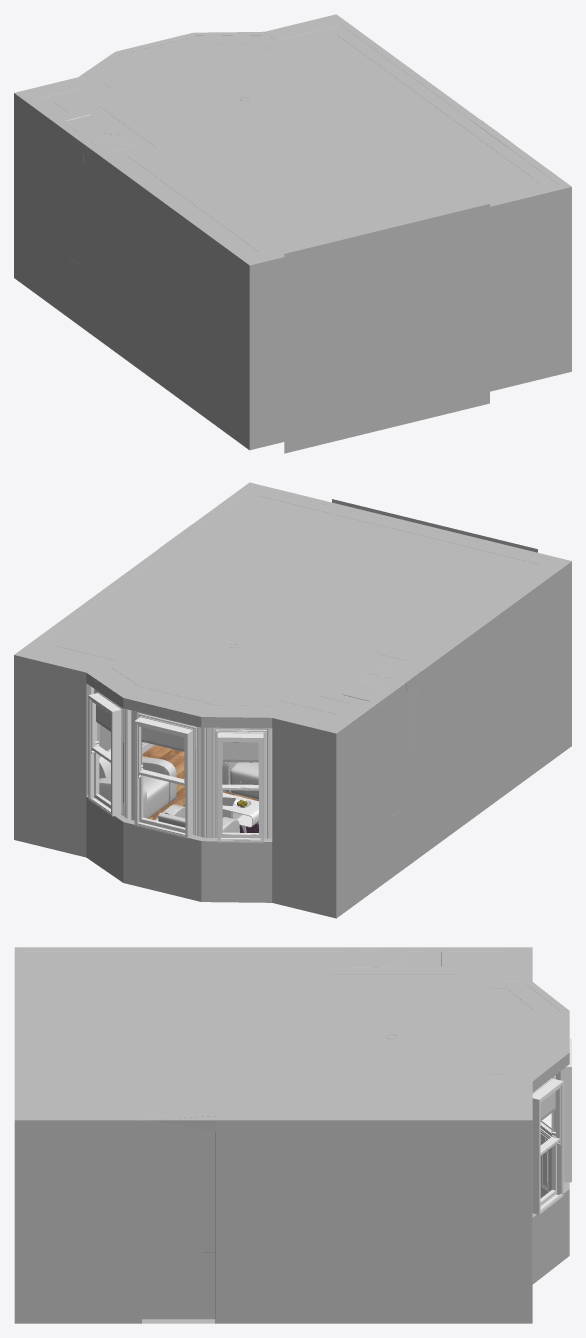
The model's file is residence.glb.
3 renders of one model, top to bottom at view 1: azimuth 30°, elevation 25°; view 2: azimuth 150°, elevation 25°; view 3: azimuth 270°, elevation 25°, orthographic. The views are drawn at different scales.
Parts seen in each view (by area): view 1: 125_Walls, 121_Walls, 01_Walls; view 2: 125_Walls, 121_Walls, 129_WhitePaint, 131_WhitePaint, 126_WhitePaint, 130_WhitePaint, 127_WhitePaint, 128_WhitePaint, 122_Floor, 134_SofaLeather, 01_Walls, 139_SofaLeather (+4 smaller); view 3: 125_Walls, 121_Walls, 126_WhitePaint, 130_WhitePaint, 127_WhitePaint.
Part boxes in pixels (left/top/right/bottom): 125_Walls: left=14, top=14, right=571, bottom=450; 121_Walls: left=34, top=25, right=559, bottom=260; 01_Walls: left=284, top=204, right=489, bottom=453; 125_Walls: left=14, top=482, right=571, bottom=918; 121_Walls: left=34, top=487, right=559, bottom=722; 129_WhitePaint: left=205, top=727, right=272, bottom=838; 131_WhitePaint: left=131, top=710, right=205, bottom=837; 126_WhitePaint: left=88, top=693, right=122, bottom=816; 130_WhitePaint: left=134, top=717, right=193, bottom=838; 127_WhitePaint: left=91, top=686, right=131, bottom=819; 128_WhitePaint: left=217, top=732, right=263, bottom=842; 122_Floor: left=142, top=745, right=258, bottom=820; 134_SofaLeather: left=99, top=757, right=176, bottom=818; 01_Walls: left=332, top=499, right=537, bottom=552; 139_SofaLeather: left=230, top=762, right=258, bottom=799; 125_Walls: left=14, top=947, right=569, bottom=1323; 121_Walls: left=23, top=951, right=560, bottom=1116; 126_WhitePaint: left=532, top=1078, right=563, bottom=1214; 130_WhitePaint: left=560, top=1038, right=571, bottom=1182; 127_WhitePaint: left=532, top=1071, right=560, bottom=1205.
Bounding box in the file's own units: 5.73 × 3.39 × 7.81.
Materials: 44 (17 with a texture image).
